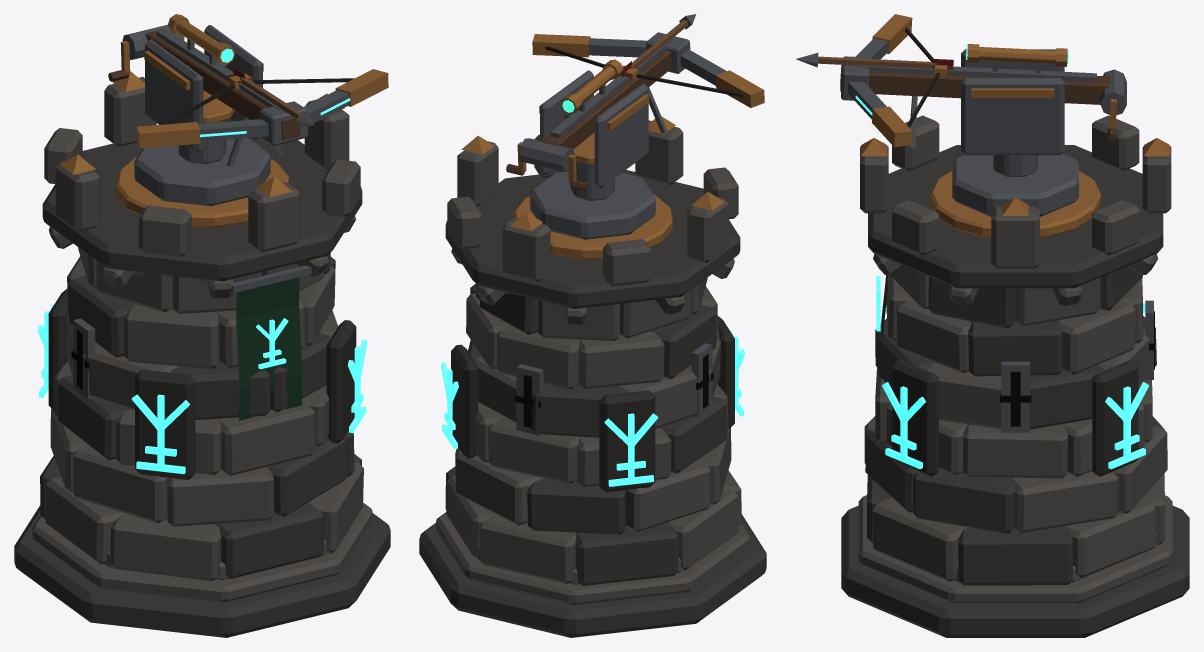
File: crossbow_tower_sniper.glb
The picture shows the model from 3 angles, left to right: view 1: azimuth 30°, elevation 25°; view 2: azimuth 150°, elevation 25°; view 3: azimuth 270°, elevation 25°; orthographic projection. The views are drawn at different scales.
Parts seen in each view (by area): view 1: Platform, Plinth, Plinth_Step, Banner, Turret_Base, Block_0_5, Block_0_6, Block_1_5, Block_4_5, Block_2_6, RuneStone_3, Block_1_4 (+43 smaller); view 2: Platform, Plinth, Plinth_Step, Turret_Base, Block_0_3, Block_0_2, Block_1_2, RuneStone_2, Block_2_2, Block_4_3, Block_1_3, Cheek_L (+41 smaller); view 3: Platform, Plinth, Plinth_Step, Cheek_R, Block_0_0, Turret_Base, Block_1_7, Block_2_0, Block_1_0, Block_0_7, Block_4_0, Block_0_1 (+44 smaller).
Part boxes in pixels (x1,y1,x2,y2): Platform: (42, 137, 362, 281); Plinth: (14, 505, 390, 637); Plinth_Step: (32, 502, 372, 602); Banner: (236, 277, 302, 420); Turret_Base: (134, 138, 270, 206); Block_0_5: (110, 513, 221, 581); Block_0_6: (215, 503, 324, 578); Block_1_5: (166, 467, 274, 526); Block_4_5: (124, 304, 219, 369); Block_2_6: (216, 401, 315, 475); RuneStone_3: (135, 369, 195, 479); Block_1_4: (73, 444, 168, 523); Platform: (445, 170, 740, 308); Plinth: (419, 514, 766, 637); Plinth_Step: (436, 512, 749, 604); Turret_Base: (530, 172, 655, 239); Block_0_3: (575, 522, 678, 585); Block_0_2: (479, 514, 576, 583); Block_1_2: (527, 478, 626, 534); RuneStone_2: (599, 390, 655, 492); Block_2_2: (488, 417, 579, 483); Block_4_3: (578, 331, 664, 388); Block_1_3: (625, 460, 710, 531); Cheek_L: (594, 84, 648, 188); Platform: (868, 145, 1163, 288); Plinth: (841, 505, 1189, 637); Plinth_Step: (858, 495, 1172, 603); Cheek_R: (961, 78, 1064, 155); Block_0_0: (958, 526, 1072, 585); Turret_Base: (952, 153, 1078, 216); Block_1_7: (913, 468, 1015, 533); Block_2_0: (962, 424, 1067, 478); Block_1_0: (1011, 471, 1118, 532); Block_0_7: (872, 497, 968, 581); Block_4_0: (968, 320, 1062, 376); Block_0_1: (1063, 500, 1155, 577).
Bounding box in the file's own units: 2.44 × 4.04 × 2.76.
